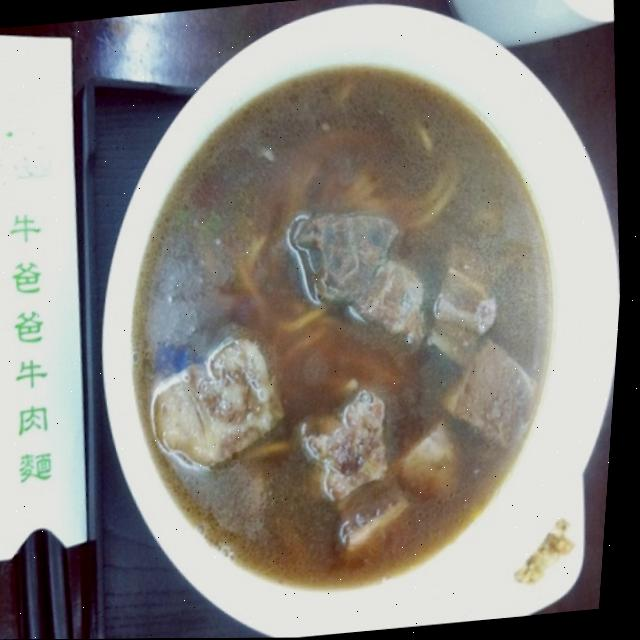面条主食: (68, 0, 640, 639)
